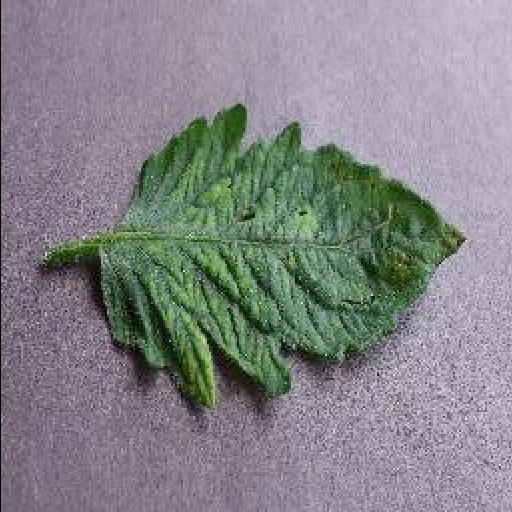Mosaic Virus: (97, 102, 467, 414)
